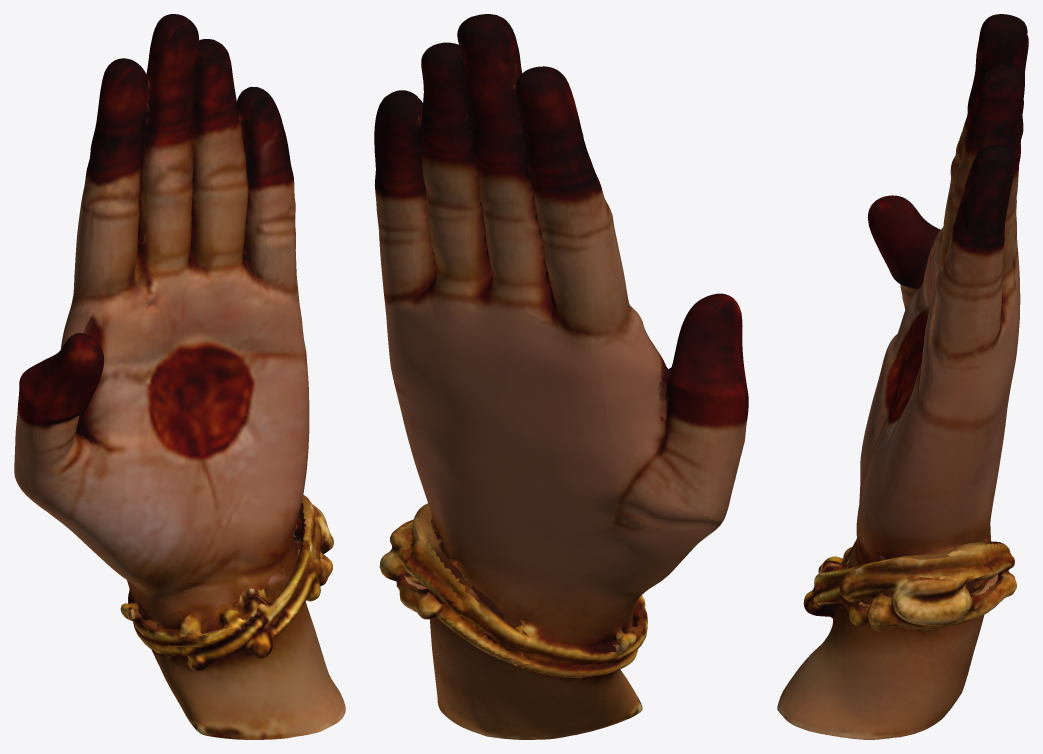
File: pataka.glb
The picture shows the model from 3 angles, left to right: view 1: azimuth 30°, elevation 25°; view 2: azimuth 150°, elevation 25°; view 3: azimuth 270°, elevation 25°; orthographic projection. The views are drawn at different scales.
Visible parts, largest first — view 1: tmp4kv10eb5.ply; view 2: tmp4kv10eb5.ply; view 3: tmp4kv10eb5.ply.
Boxes of the visible parts, box(x1,y1,x2,y2) form: tmp4kv10eb5.ply: box(14, 14, 345, 739); tmp4kv10eb5.ply: box(374, 14, 748, 739); tmp4kv10eb5.ply: box(777, 14, 1028, 739).
Size of the model in its own units: 0.9749 by 1.99 by 0.6705.
1 material, 1 textured.
